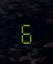six: (19, 20, 32, 44)
